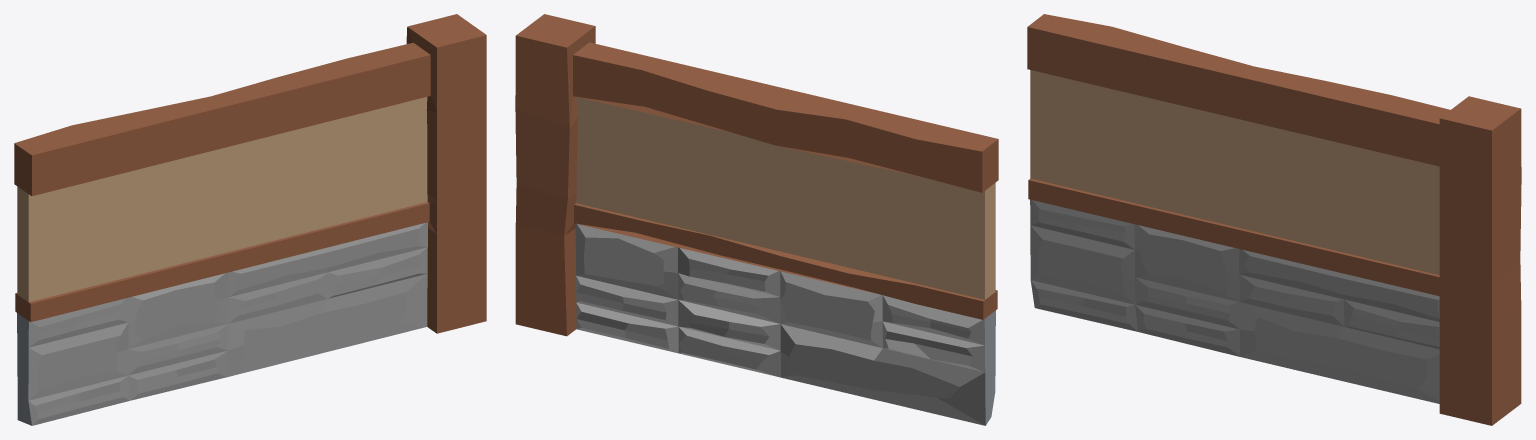
Rendered from Wall_001.fbx.
3 views of the same model, side by side, from view 1: azimuth 30°, elevation 25°; view 2: azimuth 150°, elevation 25°; view 3: azimuth 330°, elevation 25° (orthographic). The views are drawn at different scales.
Parts seen in each view (by area): view 1: Wall.001; view 2: Wall.001; view 3: Wall.001.
Boxes of the visible parts, box(x1,y1,x2,y2) form: Wall.001: box(14, 14, 486, 425); Wall.001: box(515, 14, 998, 425); Wall.001: box(1027, 14, 1521, 425).
Size of the model in its own units: 18.03 by 10.88 by 2.12.
